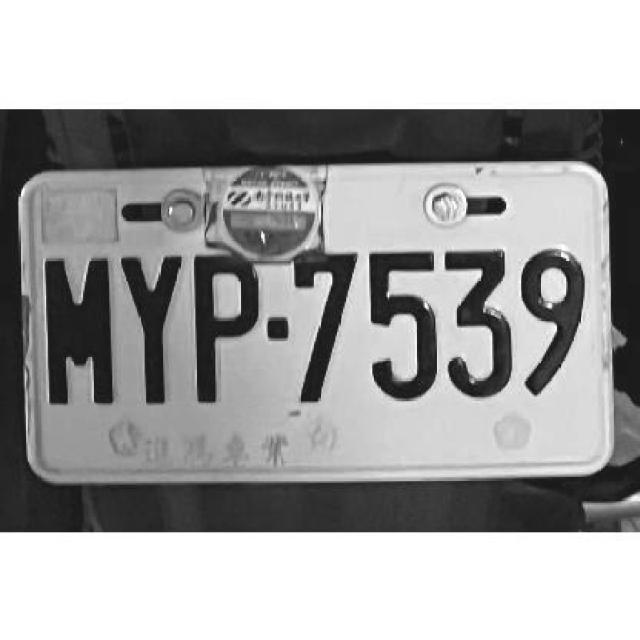-: (266, 314, 288, 340)
3: (441, 246, 514, 406)
5: (368, 245, 440, 404)
7: (291, 249, 360, 403)
9: (514, 244, 591, 396)
M: (43, 252, 117, 411)
P: (191, 251, 258, 403)
Y: (117, 250, 181, 404)
